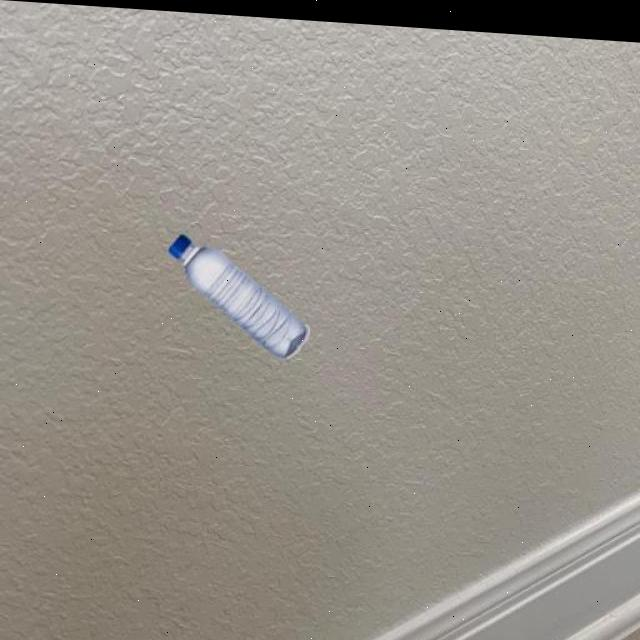bottle: (166, 227, 310, 358)
